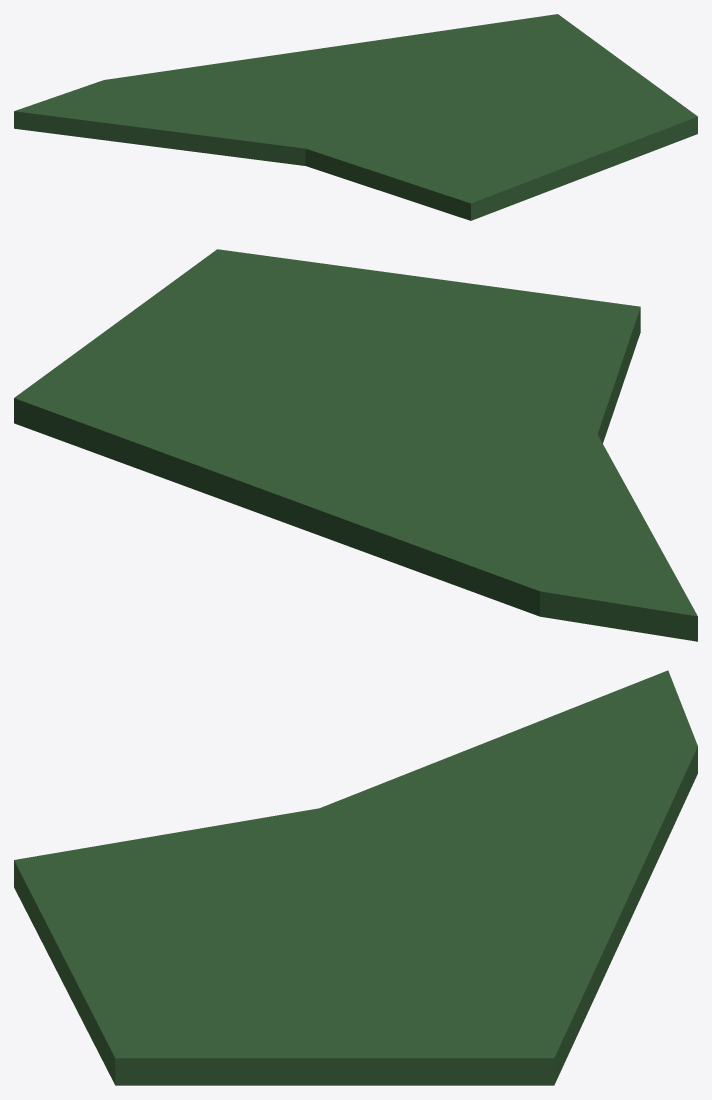
File: x_proval_00_23_1_rmstrd.fbx
The picture shows the model from 3 angles, top to bottom: view 1: azimuth 30°, elevation 25°; view 2: azimuth 150°, elevation 25°; view 3: azimuth 270°, elevation 25°; orthographic projection. The views are drawn at different scales.
Visible parts, largest first — view 1: x_proval_00_23_1_rmstrd1; view 2: x_proval_00_23_1_rmstrd1; view 3: x_proval_00_23_1_rmstrd1.
Part boxes in pixels (box(x1,y1,x2,y2)): x_proval_00_23_1_rmstrd1: box(14, 14, 697, 220); x_proval_00_23_1_rmstrd1: box(14, 249, 697, 641); x_proval_00_23_1_rmstrd1: box(14, 670, 697, 1085).
Size of the model in its own units: 6.09 by 0.2 by 4.53.
